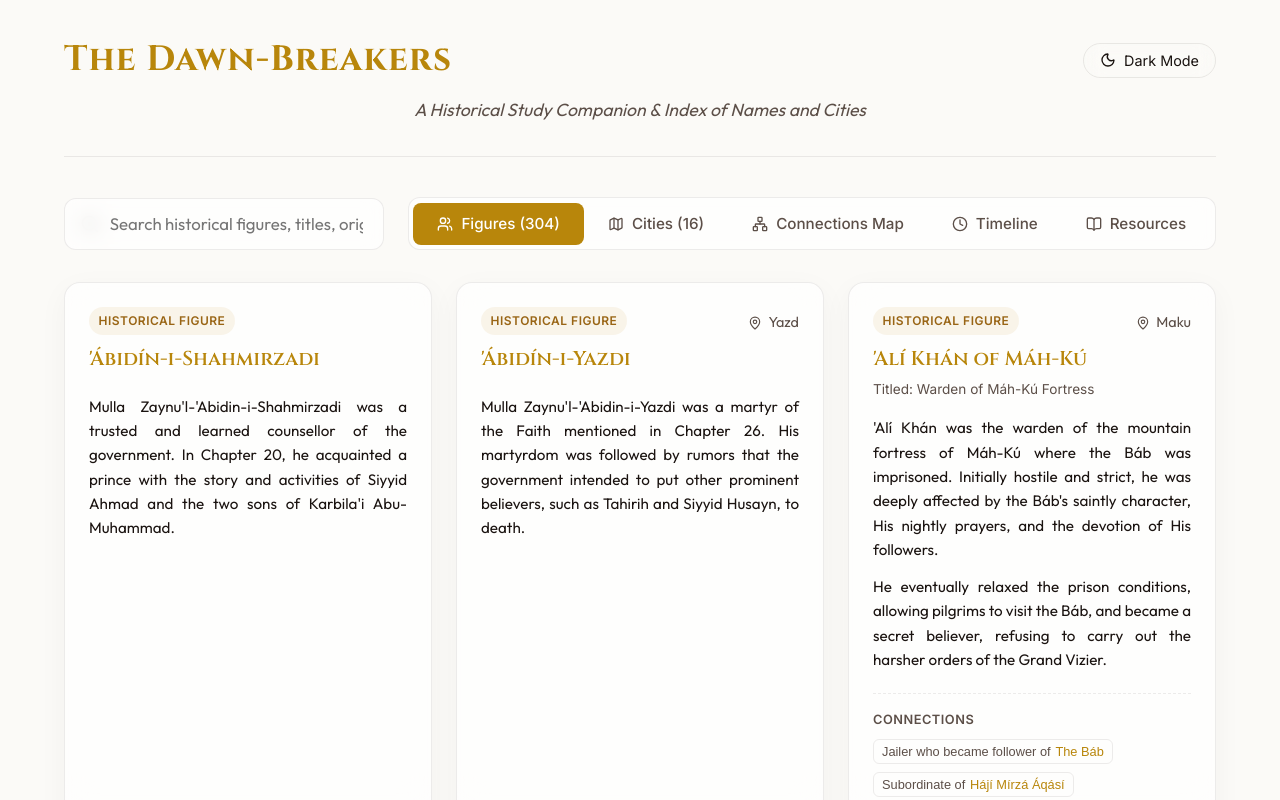
Test: Dawn-Breakers Study Companion Integration Tests › US-05: should list cities, high-level events, and timelines on Cities tab
Note: Switch to Cities tab
Click the button "Cities (16)". click: (656, 224)
box: [584,203,728,245]
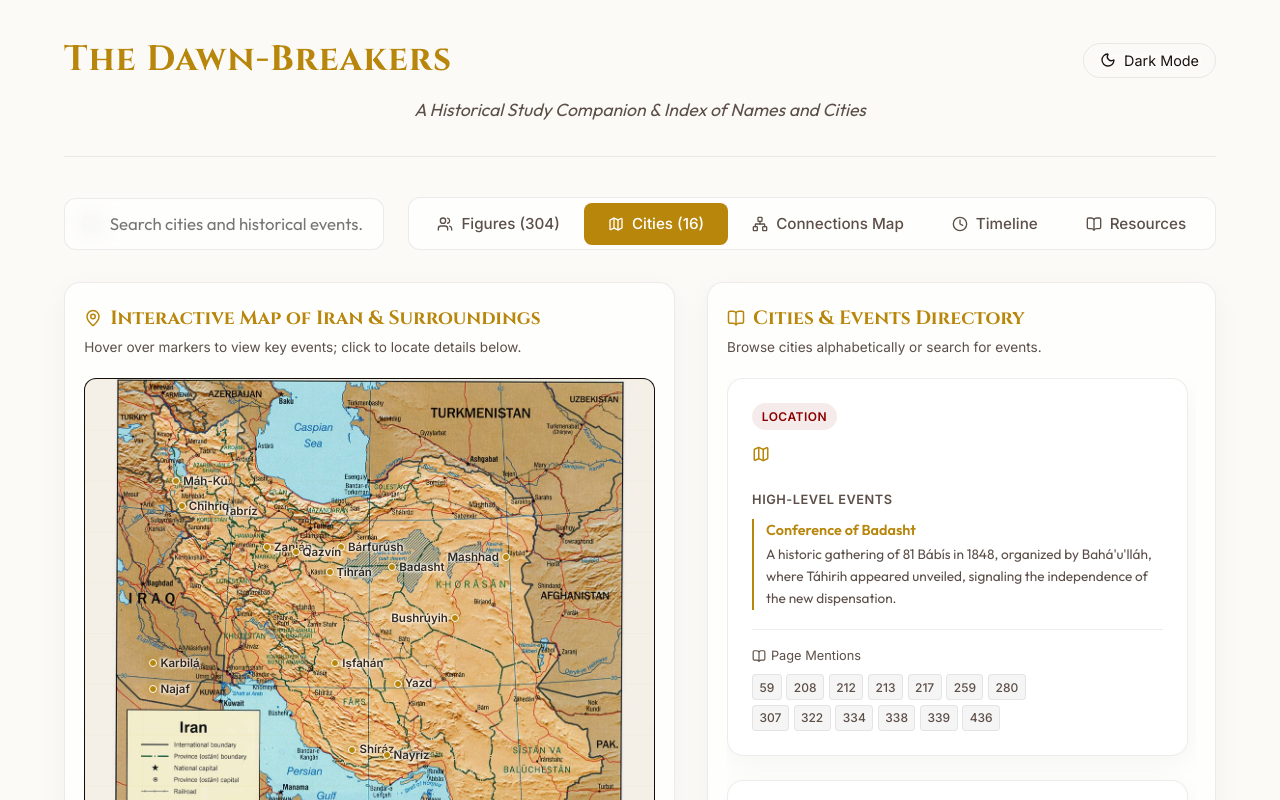
Expected: the text "Conference of Badasht" is shown, [766,521,916,539]
Now the element "Badasht" is shown, box [727,378,1188,756]
Now the text "signaling the independence of the new dispensation" is shown, box [766,545,1152,607]
